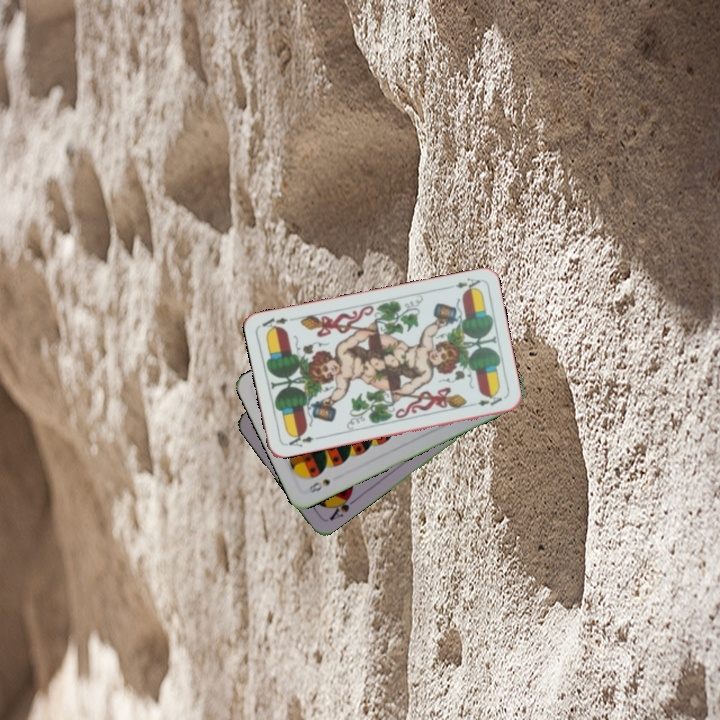EA: (443, 274, 482, 294), (282, 429, 316, 450)
S8: (303, 475, 333, 496)
SA: (325, 490, 359, 523)
